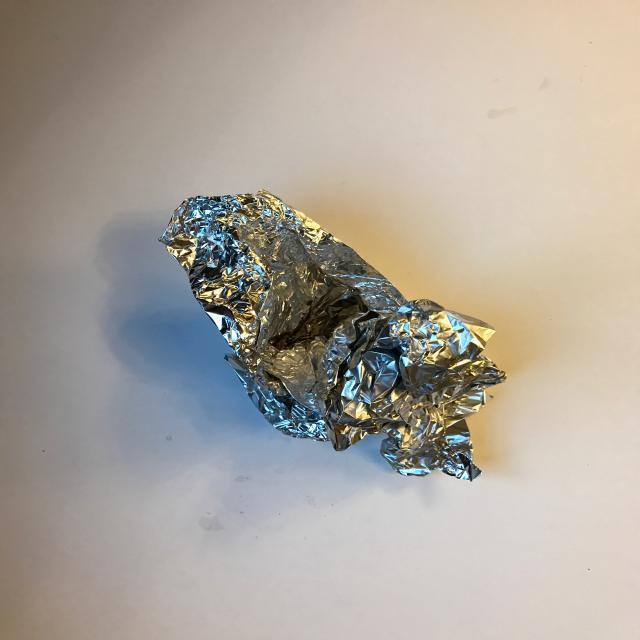metal: (153, 188, 509, 482)
